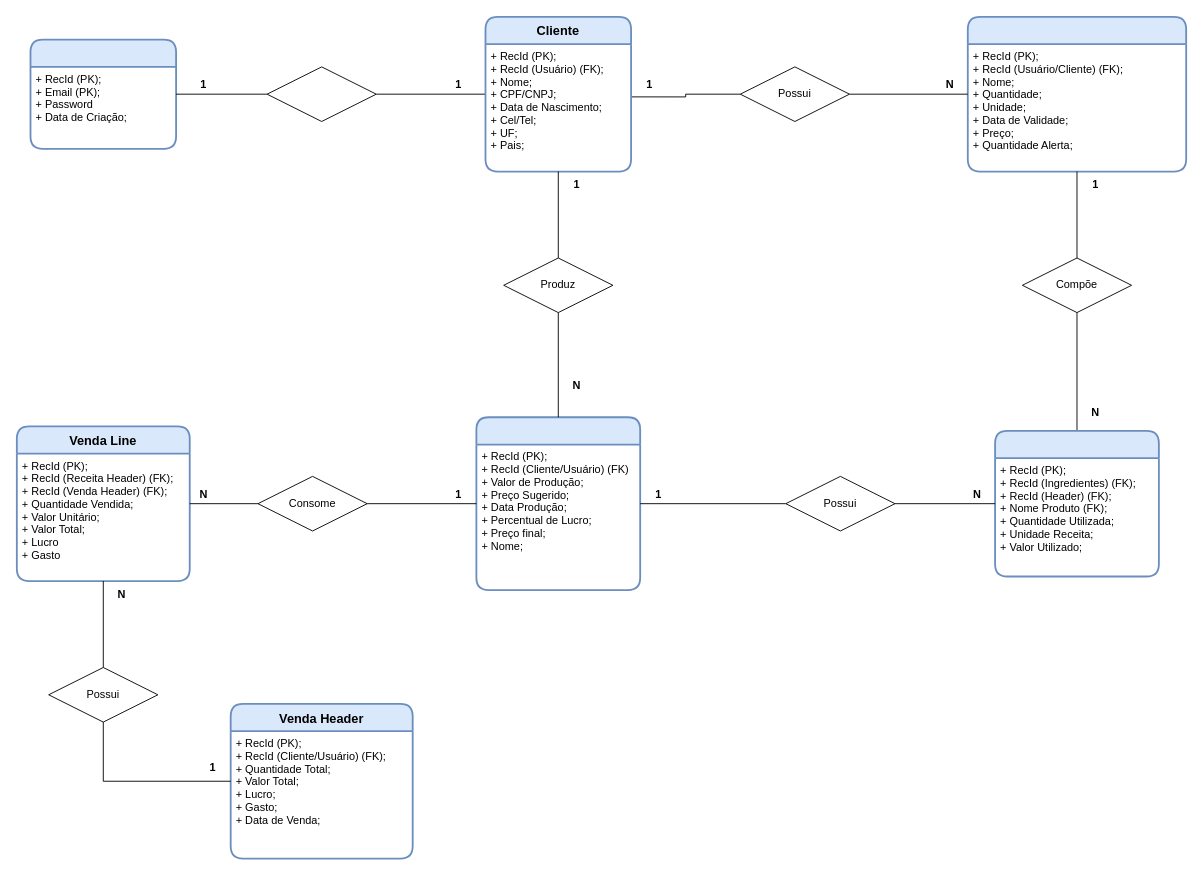
This 1202x875 diagram has some shape labels left out. The box of each missing label's shape, as (x1, y1, x2, y2) in pixels:
Ingredientes: (966, 15, 1187, 172)
Pertence: (266, 66, 376, 121)
Receita Header: (475, 416, 641, 591)
Receita Line: (994, 430, 1159, 577)
Usuário: (29, 38, 177, 149)
